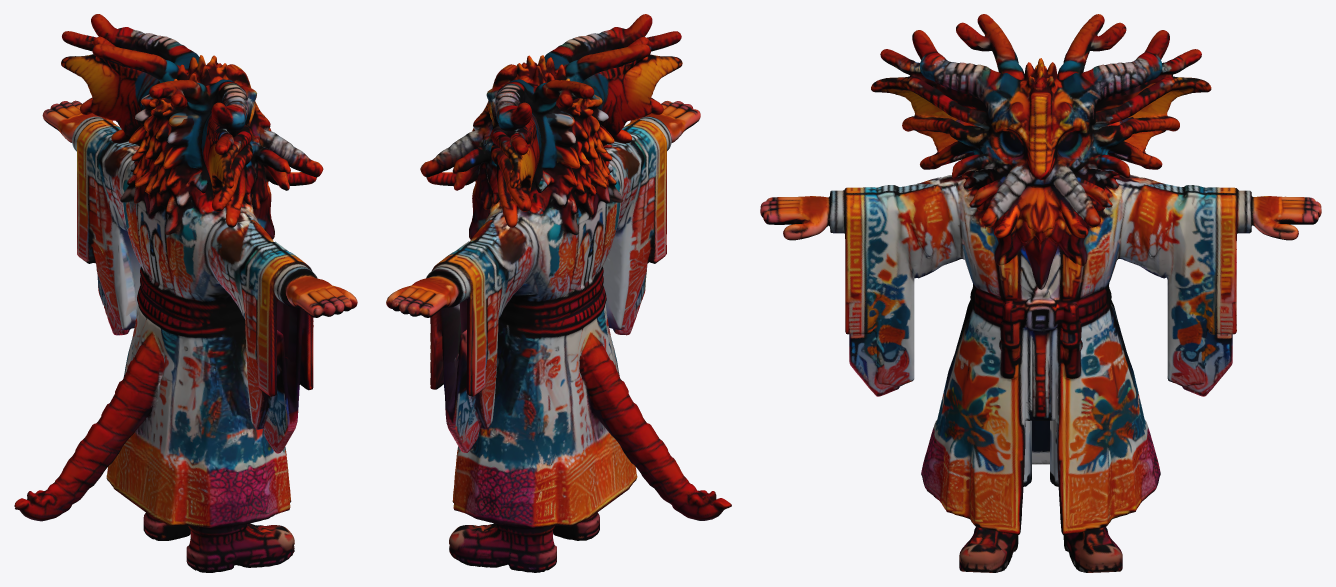
The picture shows the model from 3 angles, left to right: view 1: azimuth 30°, elevation 25°; view 2: azimuth 150°, elevation 25°; view 3: azimuth 270°, elevation 25°; orthographic projection.
Visible parts, largest first — view 1: tripo_node_587ff0d3; view 2: tripo_node_587ff0d3; view 3: tripo_node_587ff0d3.
Part boxes in pixels (x1,y1,x2,y2): tripo_node_587ff0d3: (14, 14, 357, 572); tripo_node_587ff0d3: (386, 14, 731, 572); tripo_node_587ff0d3: (760, 14, 1321, 572).
Bounding box in the file's own units: 58.53 × 98.39 × 100.
Materials: 1 (1 with a texture image).
